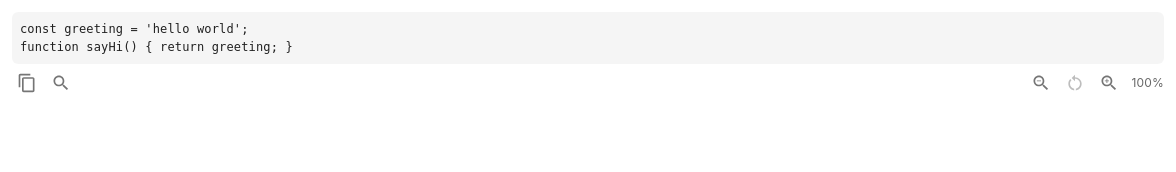
it: TextBody integration › opens the search bar via the toolbar icon
The image size is (1176, 172).
Step 1. Click the button named "Search in file" → (61, 83), box 46,68 -> 76,98
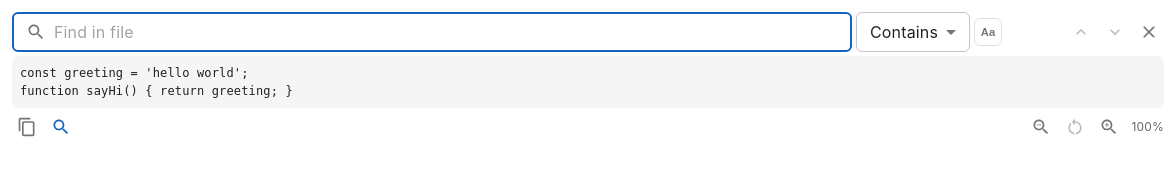
Now the field named "Search text in preview" is shown, box 54,12 -> 852,52
